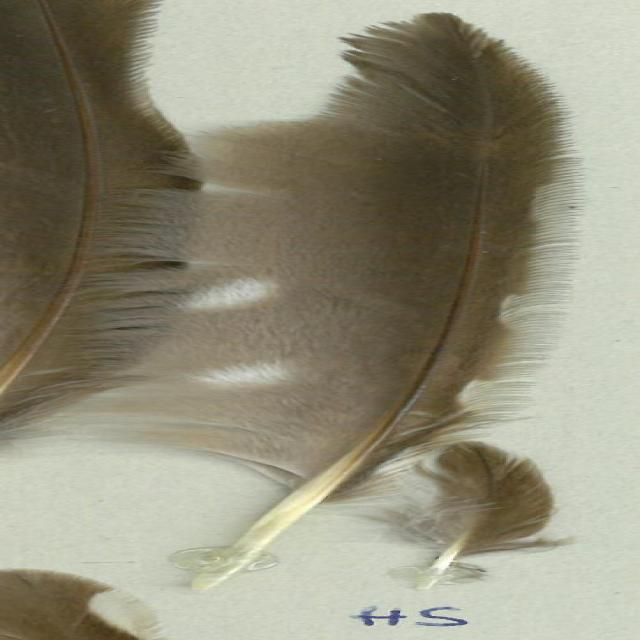feather: (82, 6, 594, 600), (0, 0, 205, 432), (376, 440, 588, 591)
